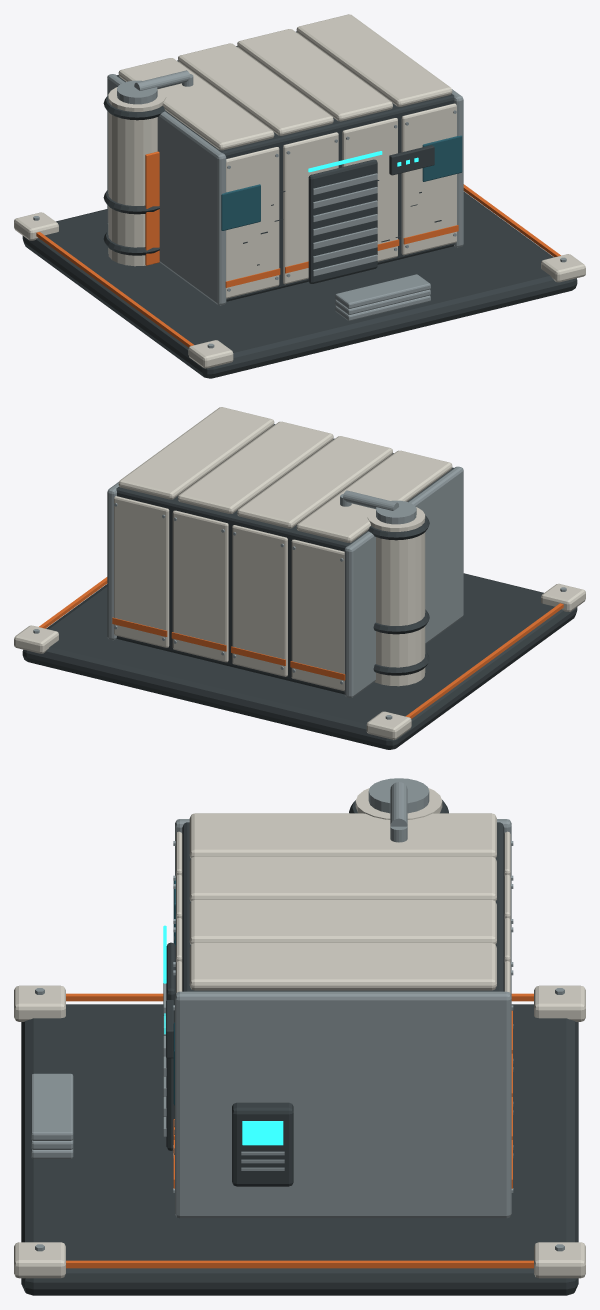
File: SM_OpticsFactory_Body.fbx
3 renders of one model, top to bottom at view 1: azimuth 30°, elevation 25°; view 2: azimuth 150°, elevation 25°; view 3: azimuth 270°, elevation 25°, orthographic. The views are drawn at different scales.
Visible parts, largest first — view 1: SM_OpticsFactory_Body; view 2: SM_OpticsFactory_Body; view 3: SM_OpticsFactory_Body.
Part boxes in pixels (x1,y1,x2,y2): SM_OpticsFactory_Body: (14, 14, 585, 378); SM_OpticsFactory_Body: (14, 407, 585, 749); SM_OpticsFactory_Body: (14, 778, 585, 1295).
Size of the model in its own units: 532 by 462 by 257.
